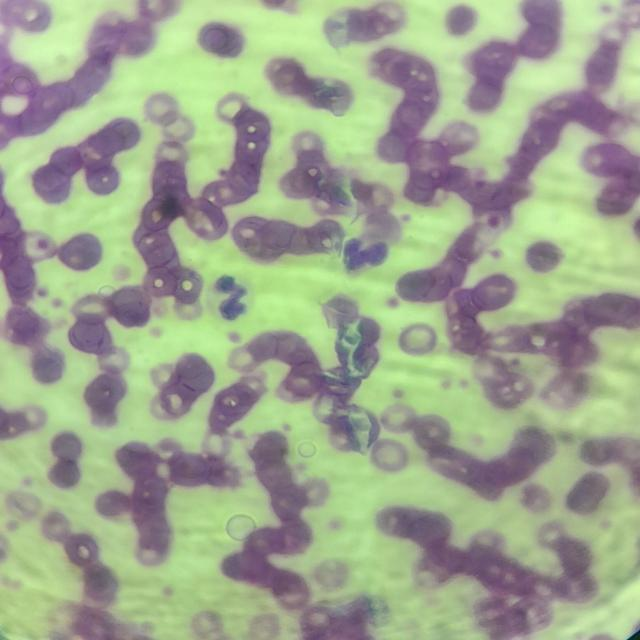Neutrofilo: (342, 233, 392, 280), (206, 276, 254, 321)
